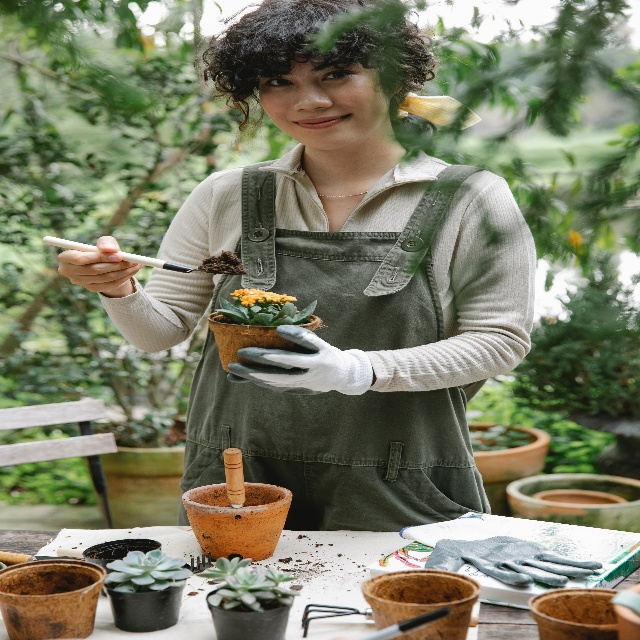Guantes: (399, 510, 602, 589), (226, 325, 373, 398)
Sin_guantes: (57, 235, 145, 293)
